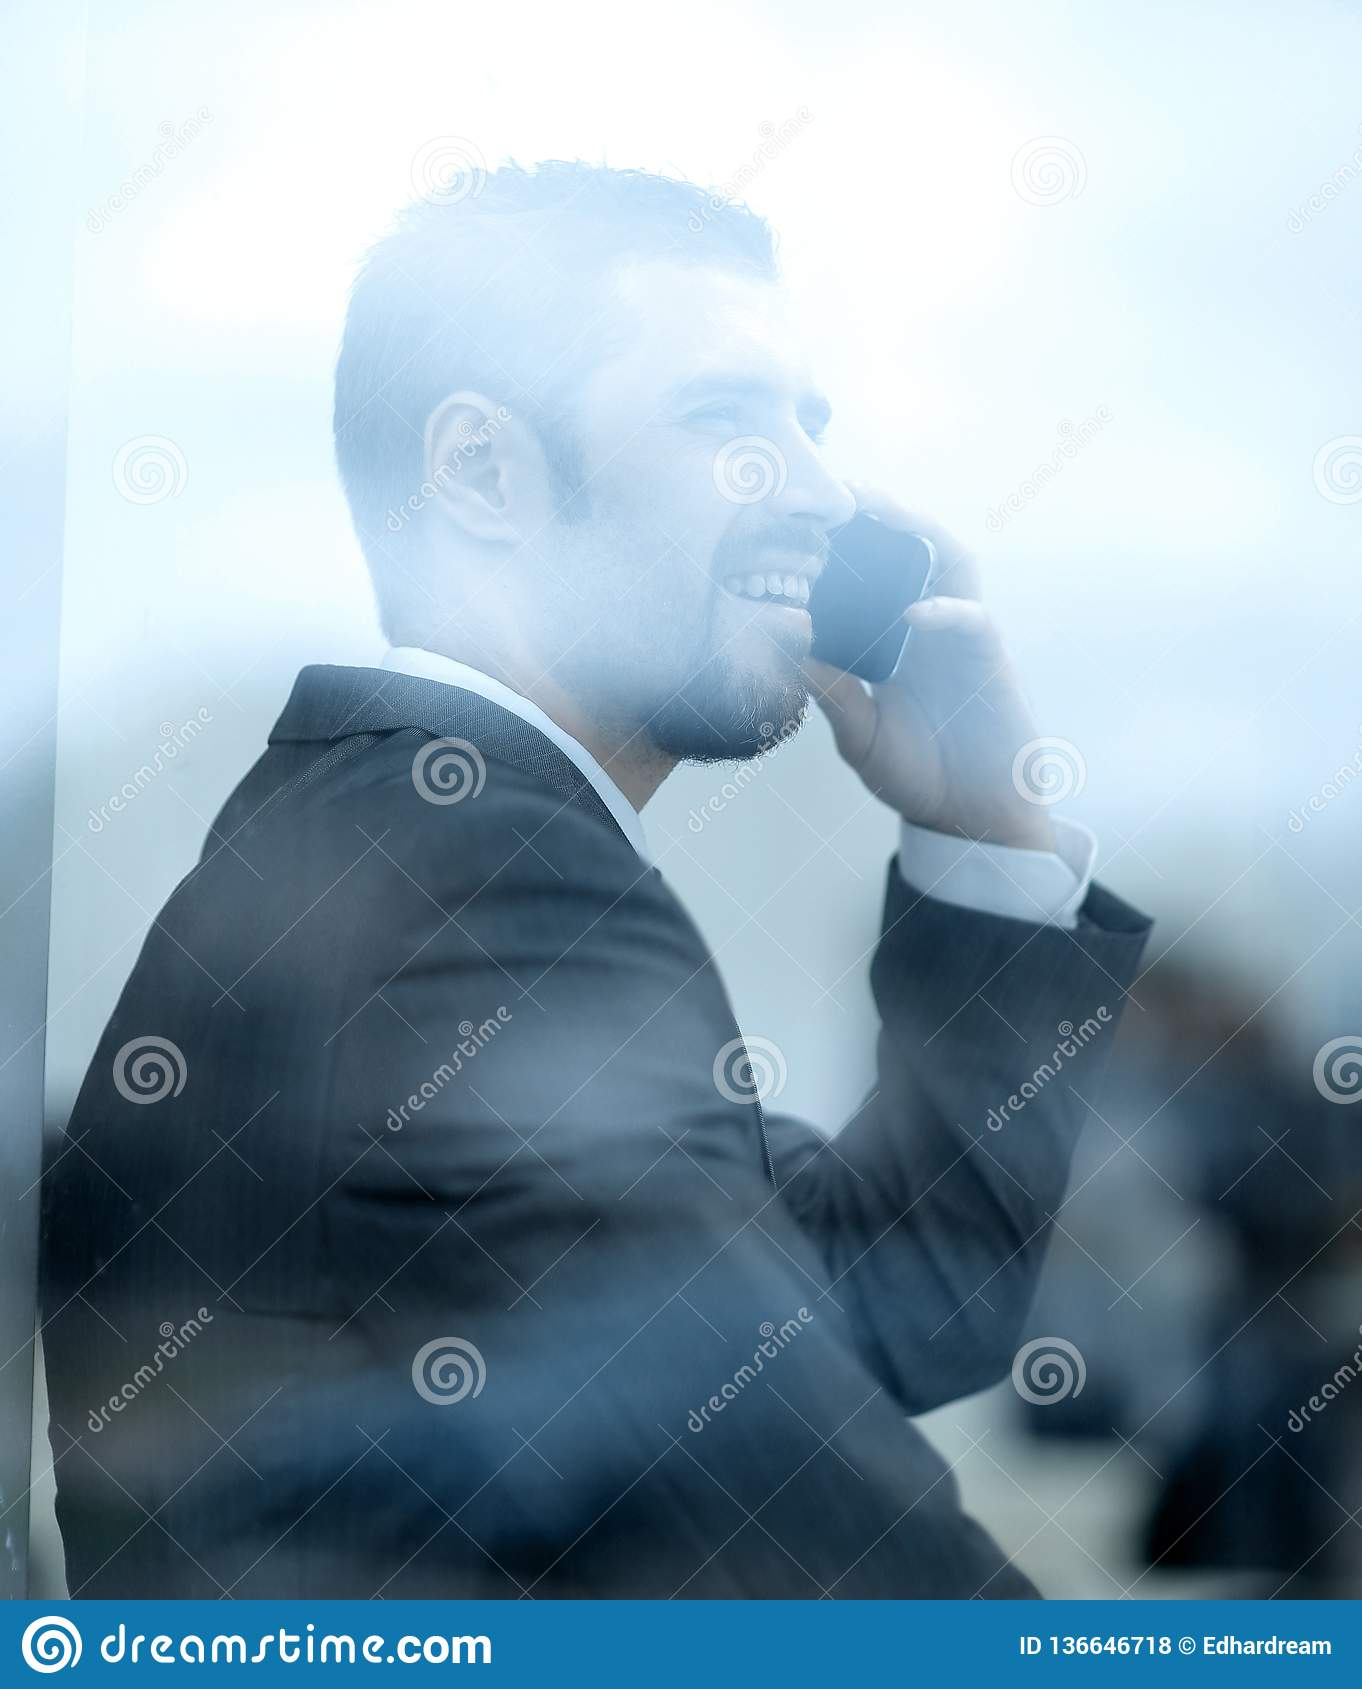phone: (803, 510, 958, 691)
talk: (639, 353, 1051, 858)
